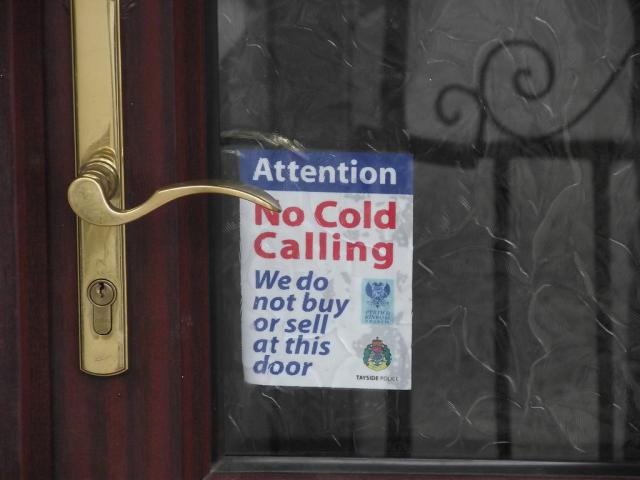Door-handle: (69, 0, 281, 378)
